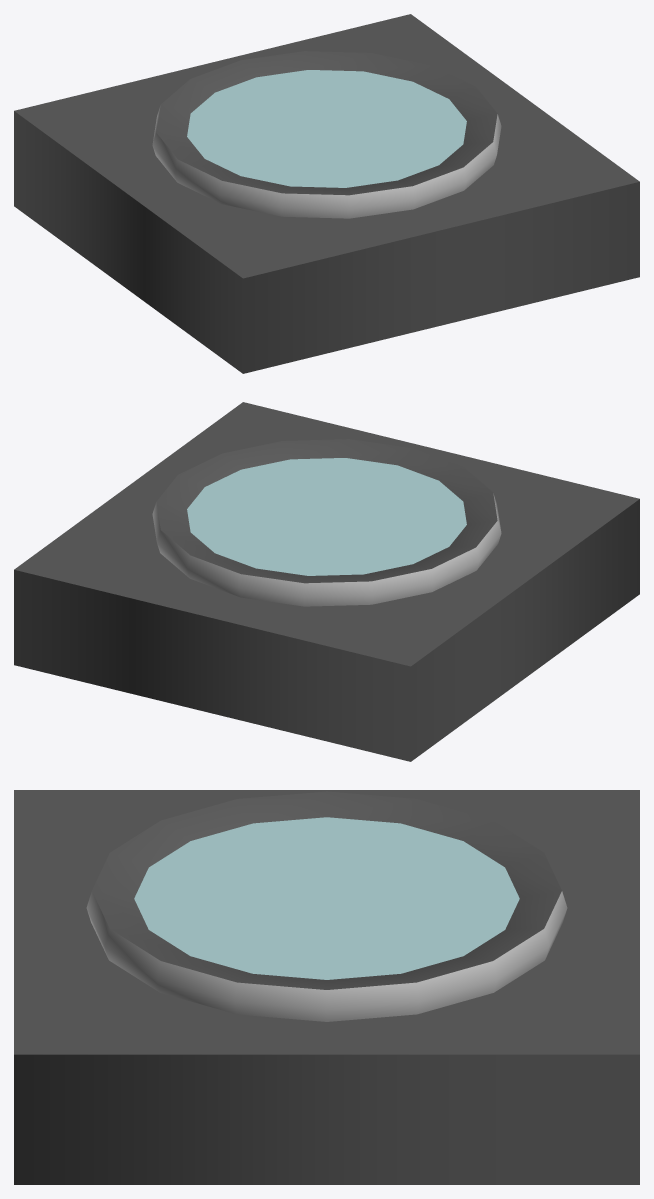
Rendered from Gravity Lift.fbx.
3 renders of one model, top to bottom at view 1: azimuth 30°, elevation 25°; view 2: azimuth 150°, elevation 25°; view 3: azimuth 270°, elevation 25°, orthographic. The views are drawn at different scales.
Parts seen in each view (by area): view 1: Cube; view 2: Cube; view 3: Cube.
Part boxes in pixels (box(x1,y1,x2,y2)): Cube: box(14, 14, 639, 373); Cube: box(14, 402, 639, 761); Cube: box(14, 790, 639, 1184).
Bounding box in the file's own units: 400 × 114 × 400.
